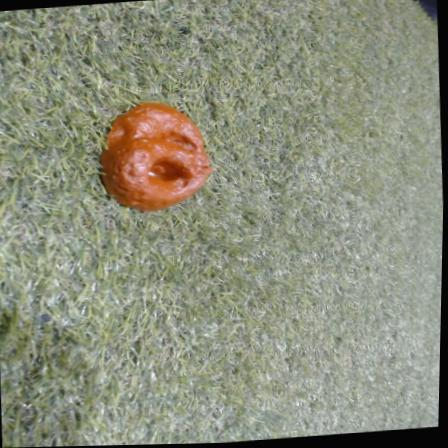dog-poop: (102, 103, 215, 213)
